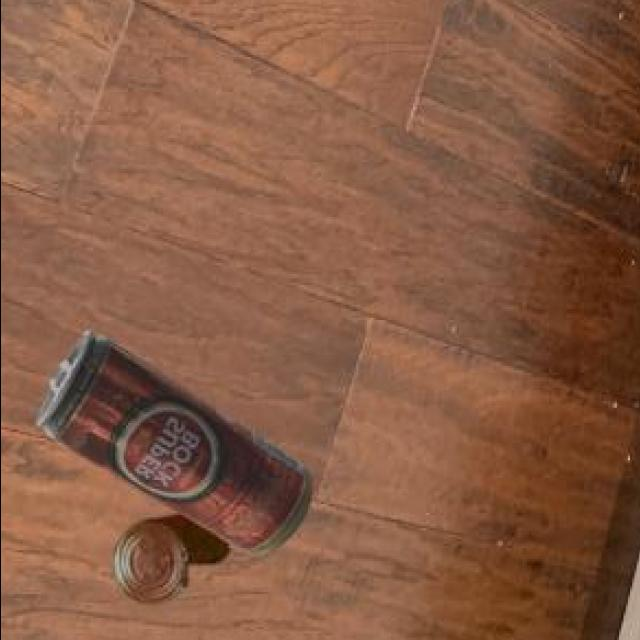logam: (41, 334, 315, 558), (115, 518, 236, 606)
